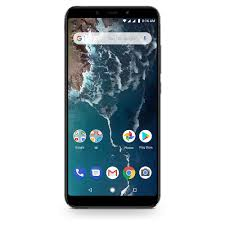mi: (61, 2, 161, 210)
